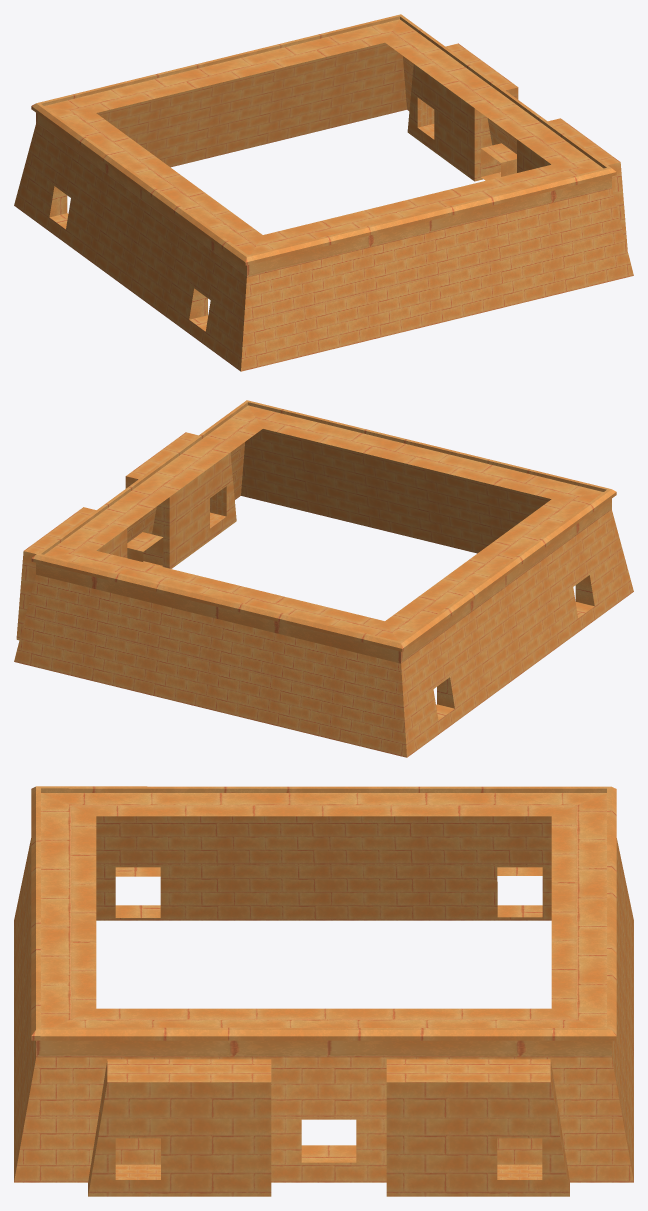
File: TempleFloor01_Art.glb
3 renders of one model, top to bottom at view 1: azimuth 30°, elevation 25°; view 2: azimuth 150°, elevation 25°; view 3: azimuth 270°, elevation 25°, orthographic. The views are drawn at different scales.
Visible parts, largest first — view 1: TempleFloor01_Art; view 2: TempleFloor01_Art; view 3: TempleFloor01_Art.
Boxes of the visible parts, x1,y1,x2,y2 form: TempleFloor01_Art: (14, 14, 633, 371); TempleFloor01_Art: (14, 400, 633, 757); TempleFloor01_Art: (14, 786, 633, 1196).
Bounding box in the file's own units: 67.66 × 16.41 × 64.24.
Materials: 2 (2 with a texture image).
